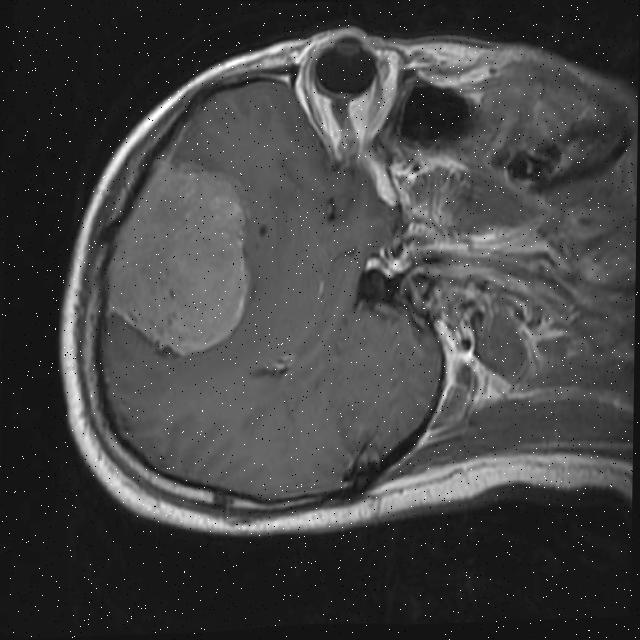Meningioma: (103, 157, 254, 360)
